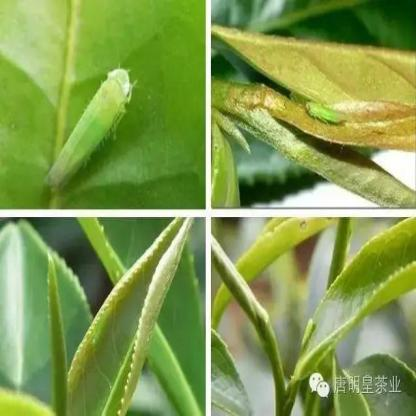Green-Leafhopper: (47, 61, 134, 191), (298, 93, 354, 135), (298, 317, 316, 351)
